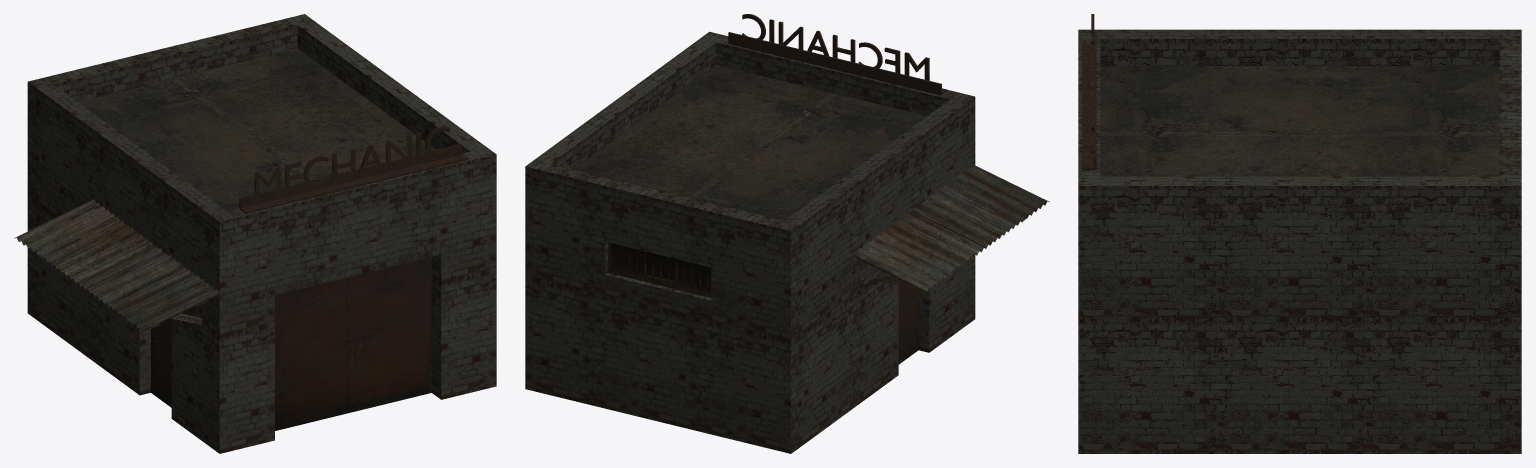
The model's file is garage_hl_1.glb.
3 views of the same model, side by side, from view 1: azimuth 30°, elevation 25°; view 2: azimuth 150°, elevation 25°; view 3: azimuth 270°, elevation 25° (orthographic). The views are drawn at different scales.
Parts seen in each view (by area): view 1: garage_hl_1; view 2: garage_hl_1; view 3: garage_hl_1.
Boxes of the visible parts, x1=… form: garage_hl_1: x1=14, y1=14, x2=496, y2=453; garage_hl_1: x1=525, y1=14, x2=1049, y2=453; garage_hl_1: x1=1078, y1=14, x2=1521, y2=453.
Bounding box in the file's own units: 6.4 × 4.59 × 6.
Materials: 9 (9 with a texture image).
